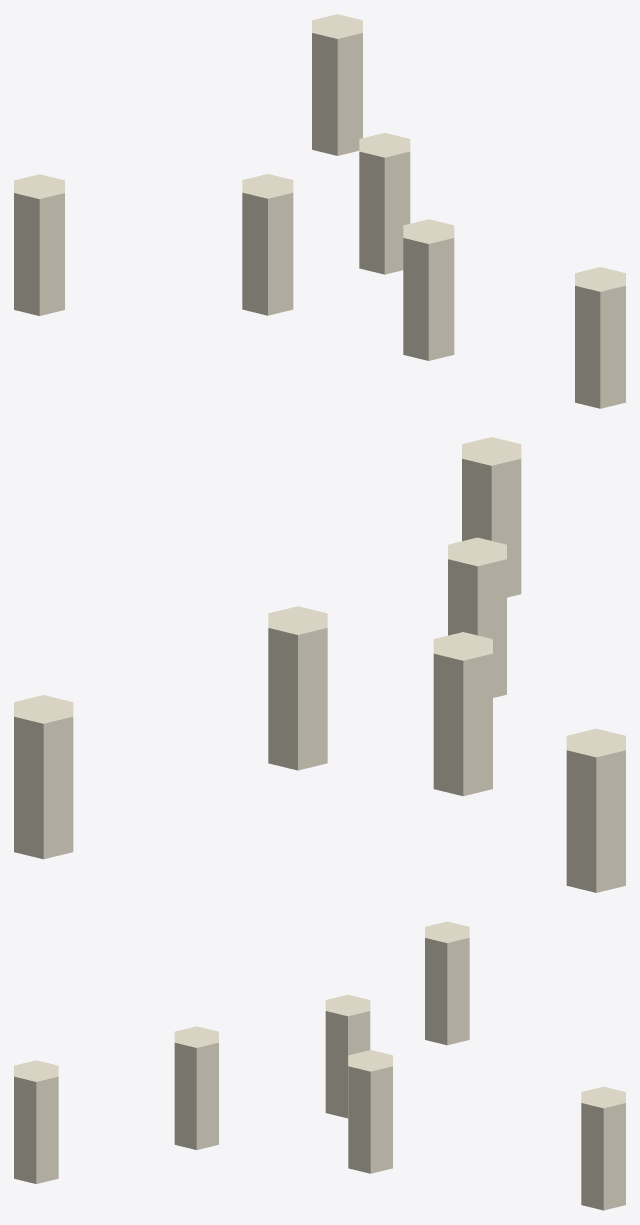
File: cigarette_butts.fbx
3 views of the same model, one above another, from view 1: azimuth 30°, elevation 25°; view 2: azimuth 150°, elevation 25°; view 3: azimuth 270°, elevation 25° (orthographic). The views are drawn at different scales.
Parts seen in each view (by area): view 1: cigarette_butts; view 2: cigarette_butts; view 3: cigarette_butts.
Part boxes in pixels (x1,y1,x2,y2): cigarette_butts: (14,14,625,408); cigarette_butts: (14,437,625,892); cigarette_butts: (14,921,625,1210).
Size of the model in its own units: 0.0275 by 0.007 by 0.038.
